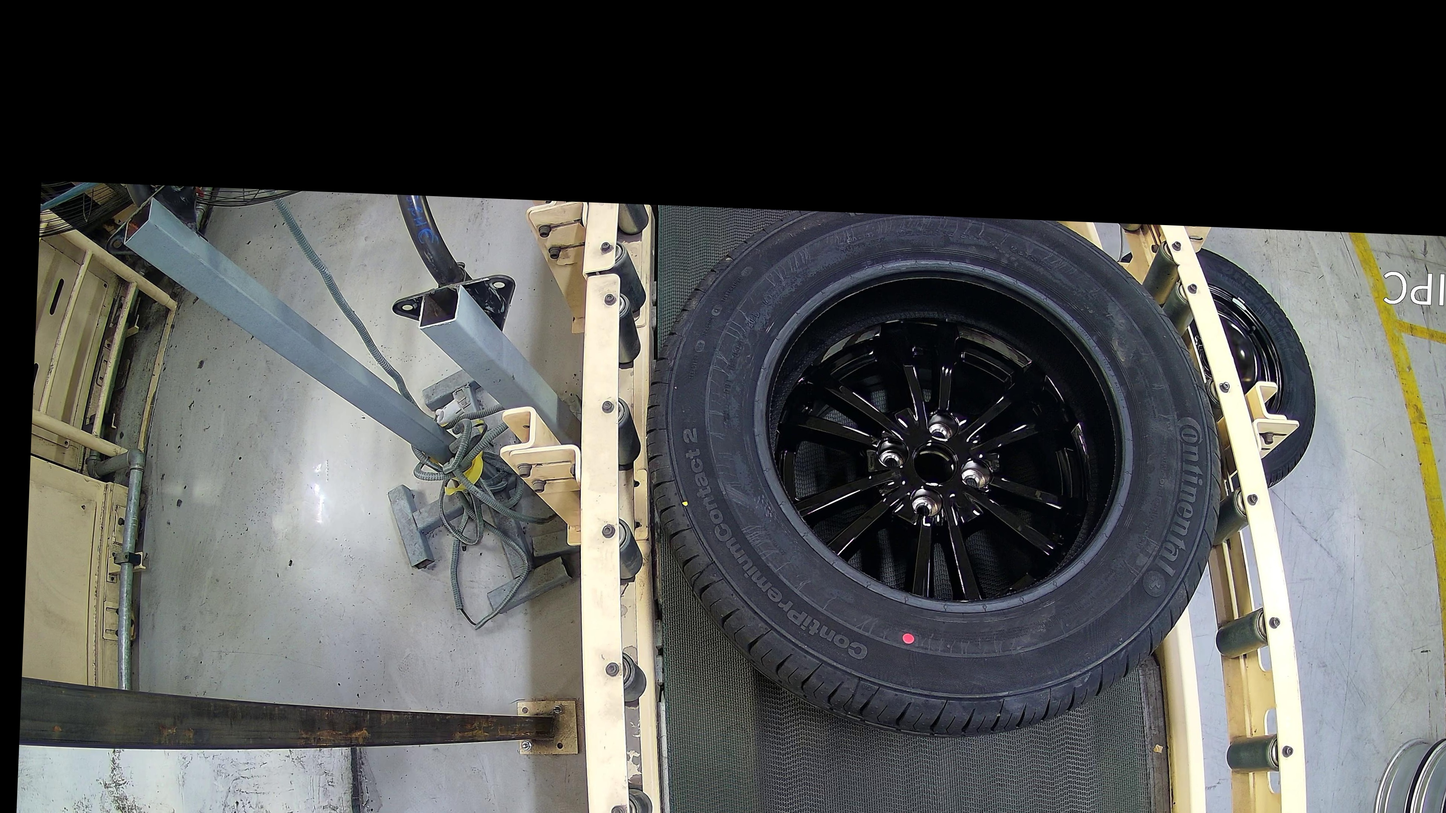black_wheel: (770, 310, 1099, 612)
